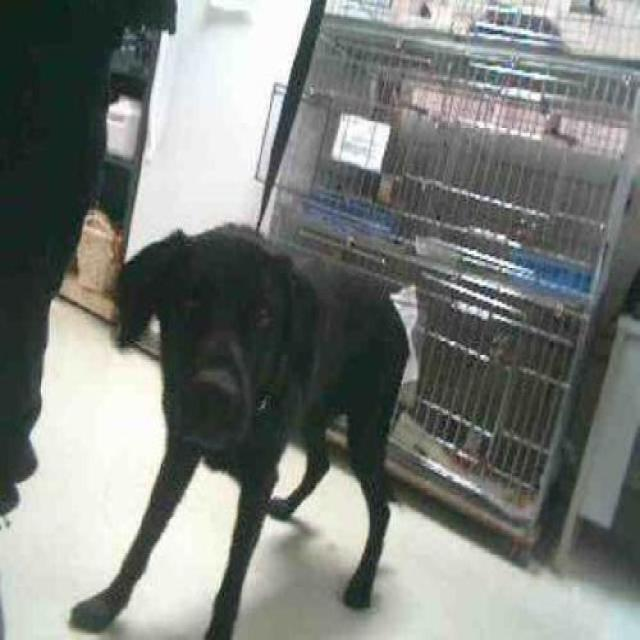Dogs: (66, 220, 411, 637)
